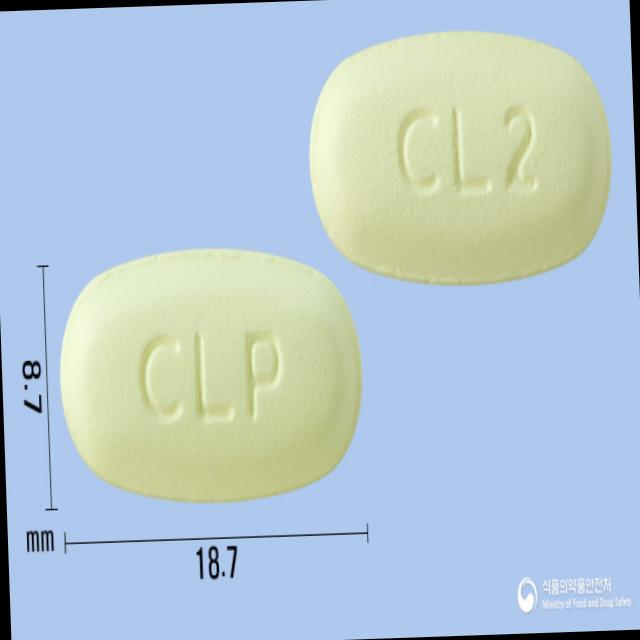Celltrion Clarithromycin: (302, 22, 620, 296), (54, 238, 368, 512)
